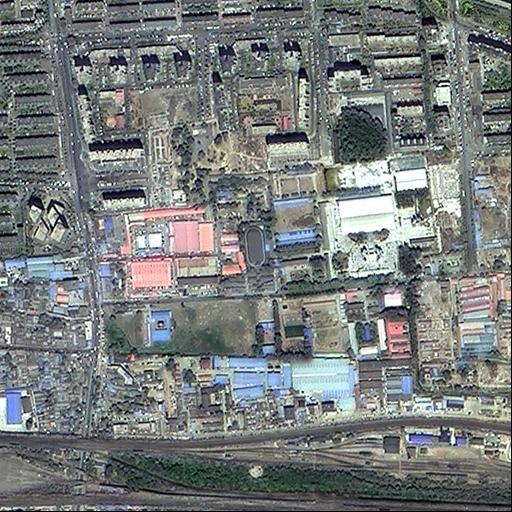school: (240, 221, 279, 301)
